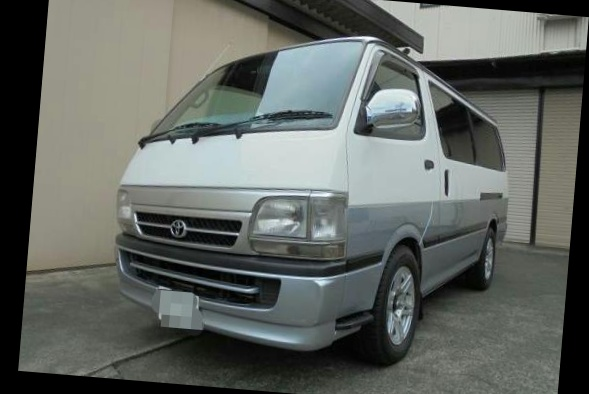van: (101, 16, 526, 367)
